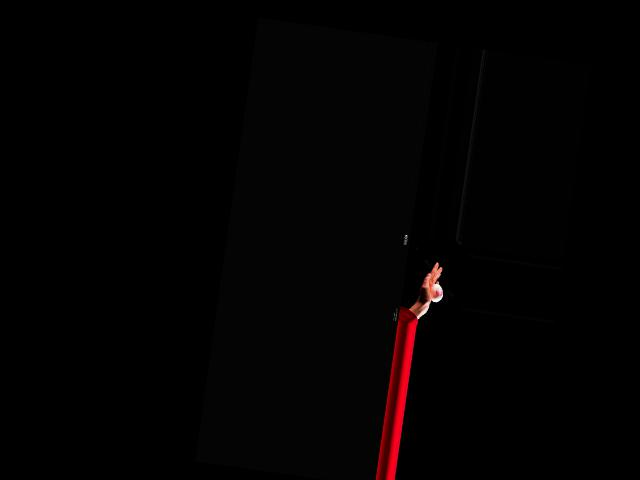egg: (429, 284, 444, 303)
